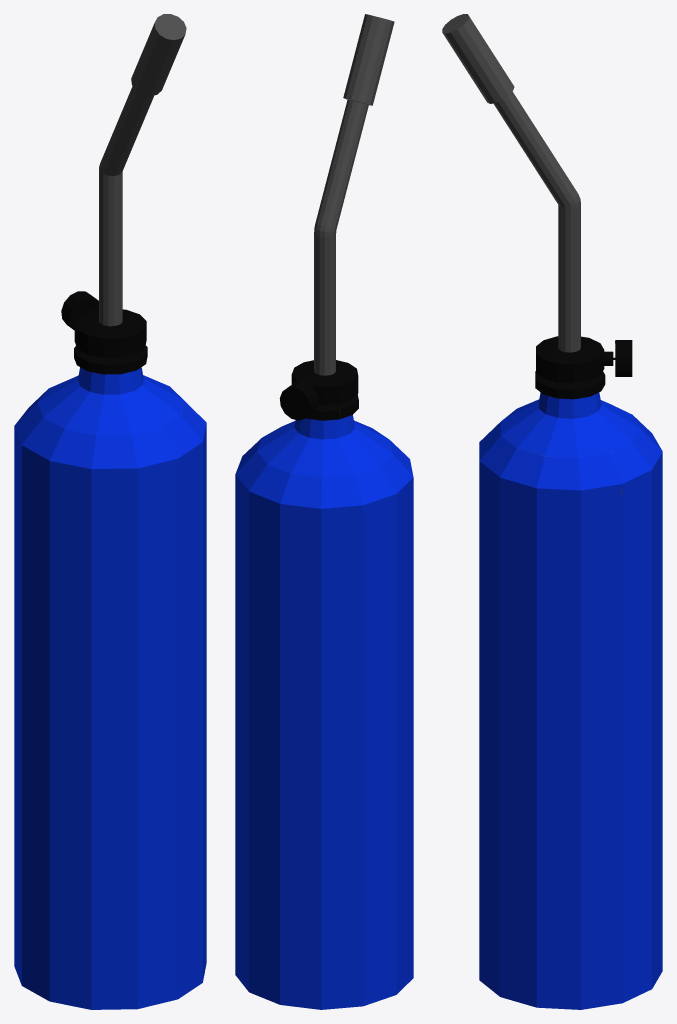
Rendered from Blowtorch1.fbx.
The picture shows the model from 3 angles, left to right: view 1: azimuth 30°, elevation 25°; view 2: azimuth 150°, elevation 25°; view 3: azimuth 270°, elevation 25°; orthographic projection. The views are drawn at different scales.
Visible parts, largest first — view 1: Cylinder.001; view 2: Cylinder.001; view 3: Cylinder.001.
Part boxes in pixels (<box>): Cylinder.001: <box>14,14,206,1009</box>; Cylinder.001: <box>235,14,413,1009</box>; Cylinder.001: <box>442,14,662,1009</box>.
Size of the model in its own units: 30.34 by 173 by 36.23.
Materials: 1 (1 with a texture image).
